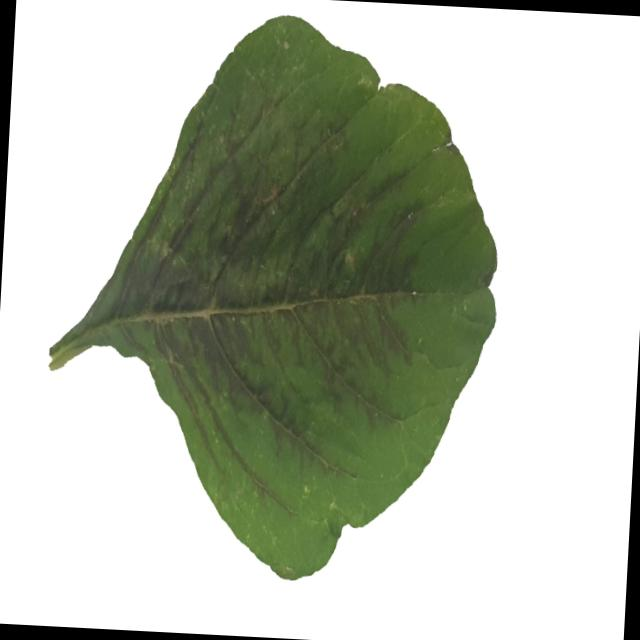Medicinal-Arive Dantu: (36, 2, 514, 585)
